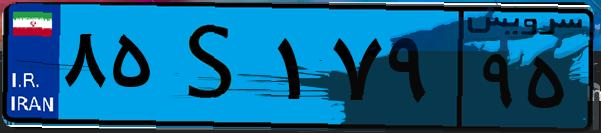1: (270, 28, 330, 110)
5: (525, 38, 570, 115), (110, 28, 158, 98)
7: (330, 28, 385, 110)
8: (57, 26, 110, 100)
9: (385, 28, 445, 110), (475, 38, 525, 113)
S: (158, 12, 270, 120)
